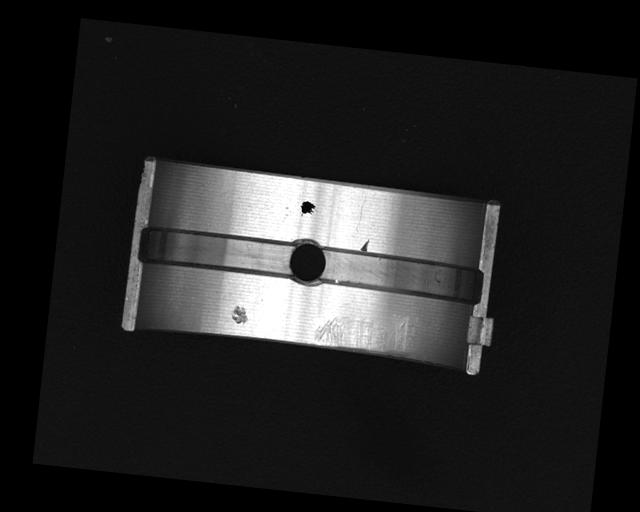blot: (299, 199, 317, 217)
bruise: (228, 302, 251, 325), (358, 238, 370, 252)
gap: (317, 246, 482, 306), (134, 223, 300, 280)
hole: (286, 237, 330, 289)
nick: (355, 197, 366, 233)
scratch: (311, 310, 419, 358)
